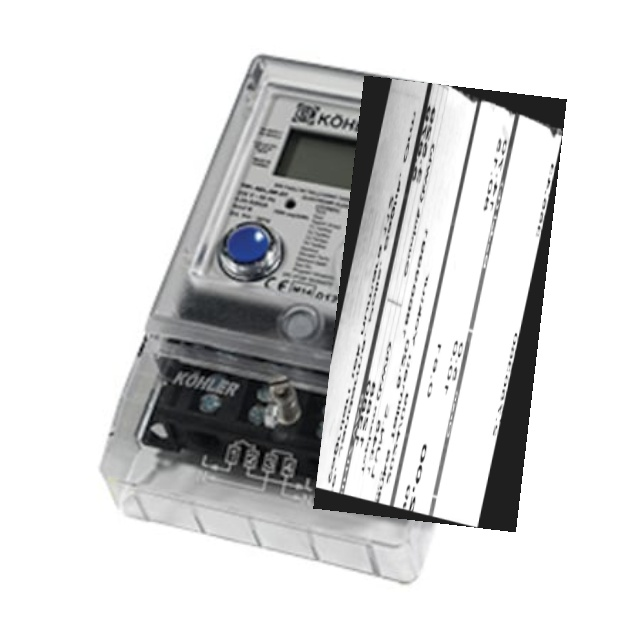electricity-bill: (313, 76, 567, 532)
